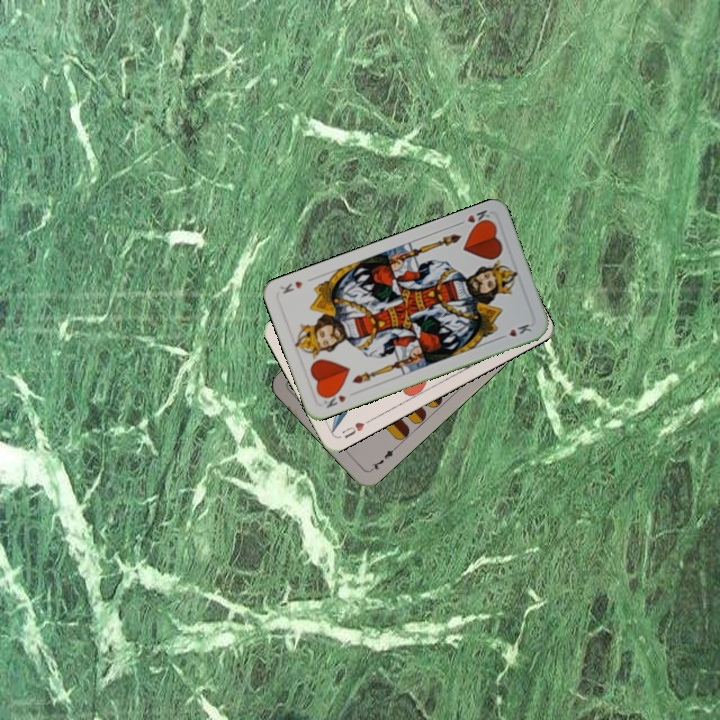E7: (366, 443, 400, 474)
HK: (453, 206, 493, 230), (318, 387, 349, 411)
HU: (338, 418, 367, 441)
